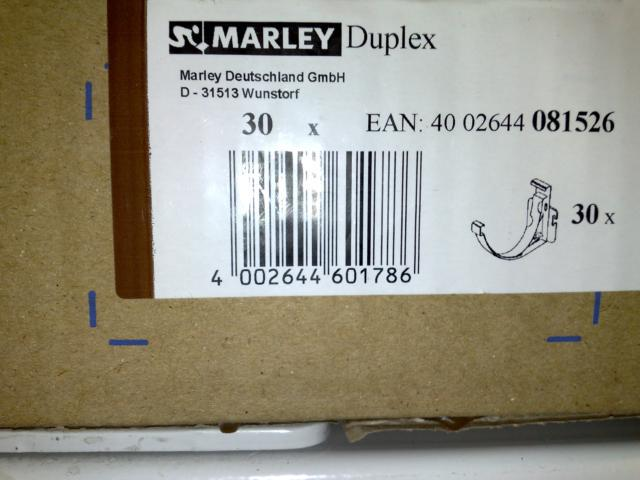Barkod: (227, 147, 422, 267)
